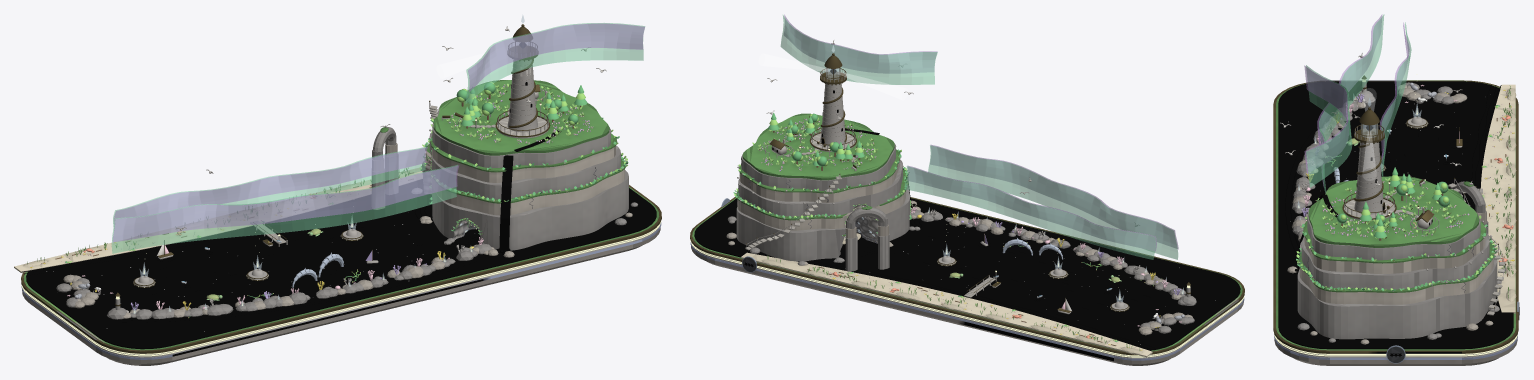
The model's file is SM_Evo_OrbitalDefense.fbx.
3 views of the same model, side by side, from view 1: azimuth 30°, elevation 25°; view 2: azimuth 150°, elevation 25°; view 3: azimuth 270°, elevation 25° (orthographic). The views are drawn at different scales.
Visible parts, largest first — view 1: SMN_Evo_OrbitalDefense, Emblem_Fx_OrbitalDefense, Fx_OrbitalDefenseAurora1, Fx_OrbitalDefenseAurora2, Fx_OrbitalDefenseAurora3, SpinDish_OrbitalDefenseBeam; view 2: SMN_Evo_OrbitalDefense, Emblem_Fx_OrbitalDefense, Fx_OrbitalDefenseAurora1, Fx_OrbitalDefenseAurora2, Fx_OrbitalDefenseAurora3, SpinDish_OrbitalDefenseBeam; view 3: SMN_Evo_OrbitalDefense, Emblem_Fx_OrbitalDefense, Fx_OrbitalDefenseAurora3, Fx_OrbitalDefenseAurora1, Fx_OrbitalDefenseAurora2, SpinDish_OrbitalDefenseBeam.
Boxes of the visible parts, box(x1,y1,x2,y2) form: SMN_Evo_OrbitalDefense: box(14, 24, 661, 365); Emblem_Fx_OrbitalDefense: box(21, 15, 661, 356); Fx_OrbitalDefenseAurora1: box(111, 165, 458, 253); Fx_OrbitalDefenseAurora2: box(113, 146, 427, 227); Fx_OrbitalDefenseAurora3: box(465, 23, 645, 103); SpinDish_OrbitalDefenseBeam: box(437, 53, 484, 78); SMN_Evo_OrbitalDefense: box(690, 53, 1244, 365); Emblem_Fx_OrbitalDefense: box(690, 45, 1244, 357); Fx_OrbitalDefenseAurora1: box(928, 144, 1178, 259); Fx_OrbitalDefenseAurora2: box(904, 165, 1156, 259); Fx_OrbitalDefenseAurora3: box(780, 14, 937, 84); SpinDish_OrbitalDefenseBeam: box(759, 54, 907, 99); SMN_Evo_OrbitalDefense: box(1273, 53, 1519, 365); Emblem_Fx_OrbitalDefense: box(1273, 74, 1519, 356); Fx_OrbitalDefenseAurora3: box(1304, 65, 1352, 187); Fx_OrbitalDefenseAurora1: box(1317, 14, 1384, 192); Fx_OrbitalDefenseAurora2: box(1379, 22, 1411, 176); SpinDish_OrbitalDefenseBeam: box(1363, 88, 1376, 180).
Size of the model in its own units: 4.86 by 1.83 by 1.86.
